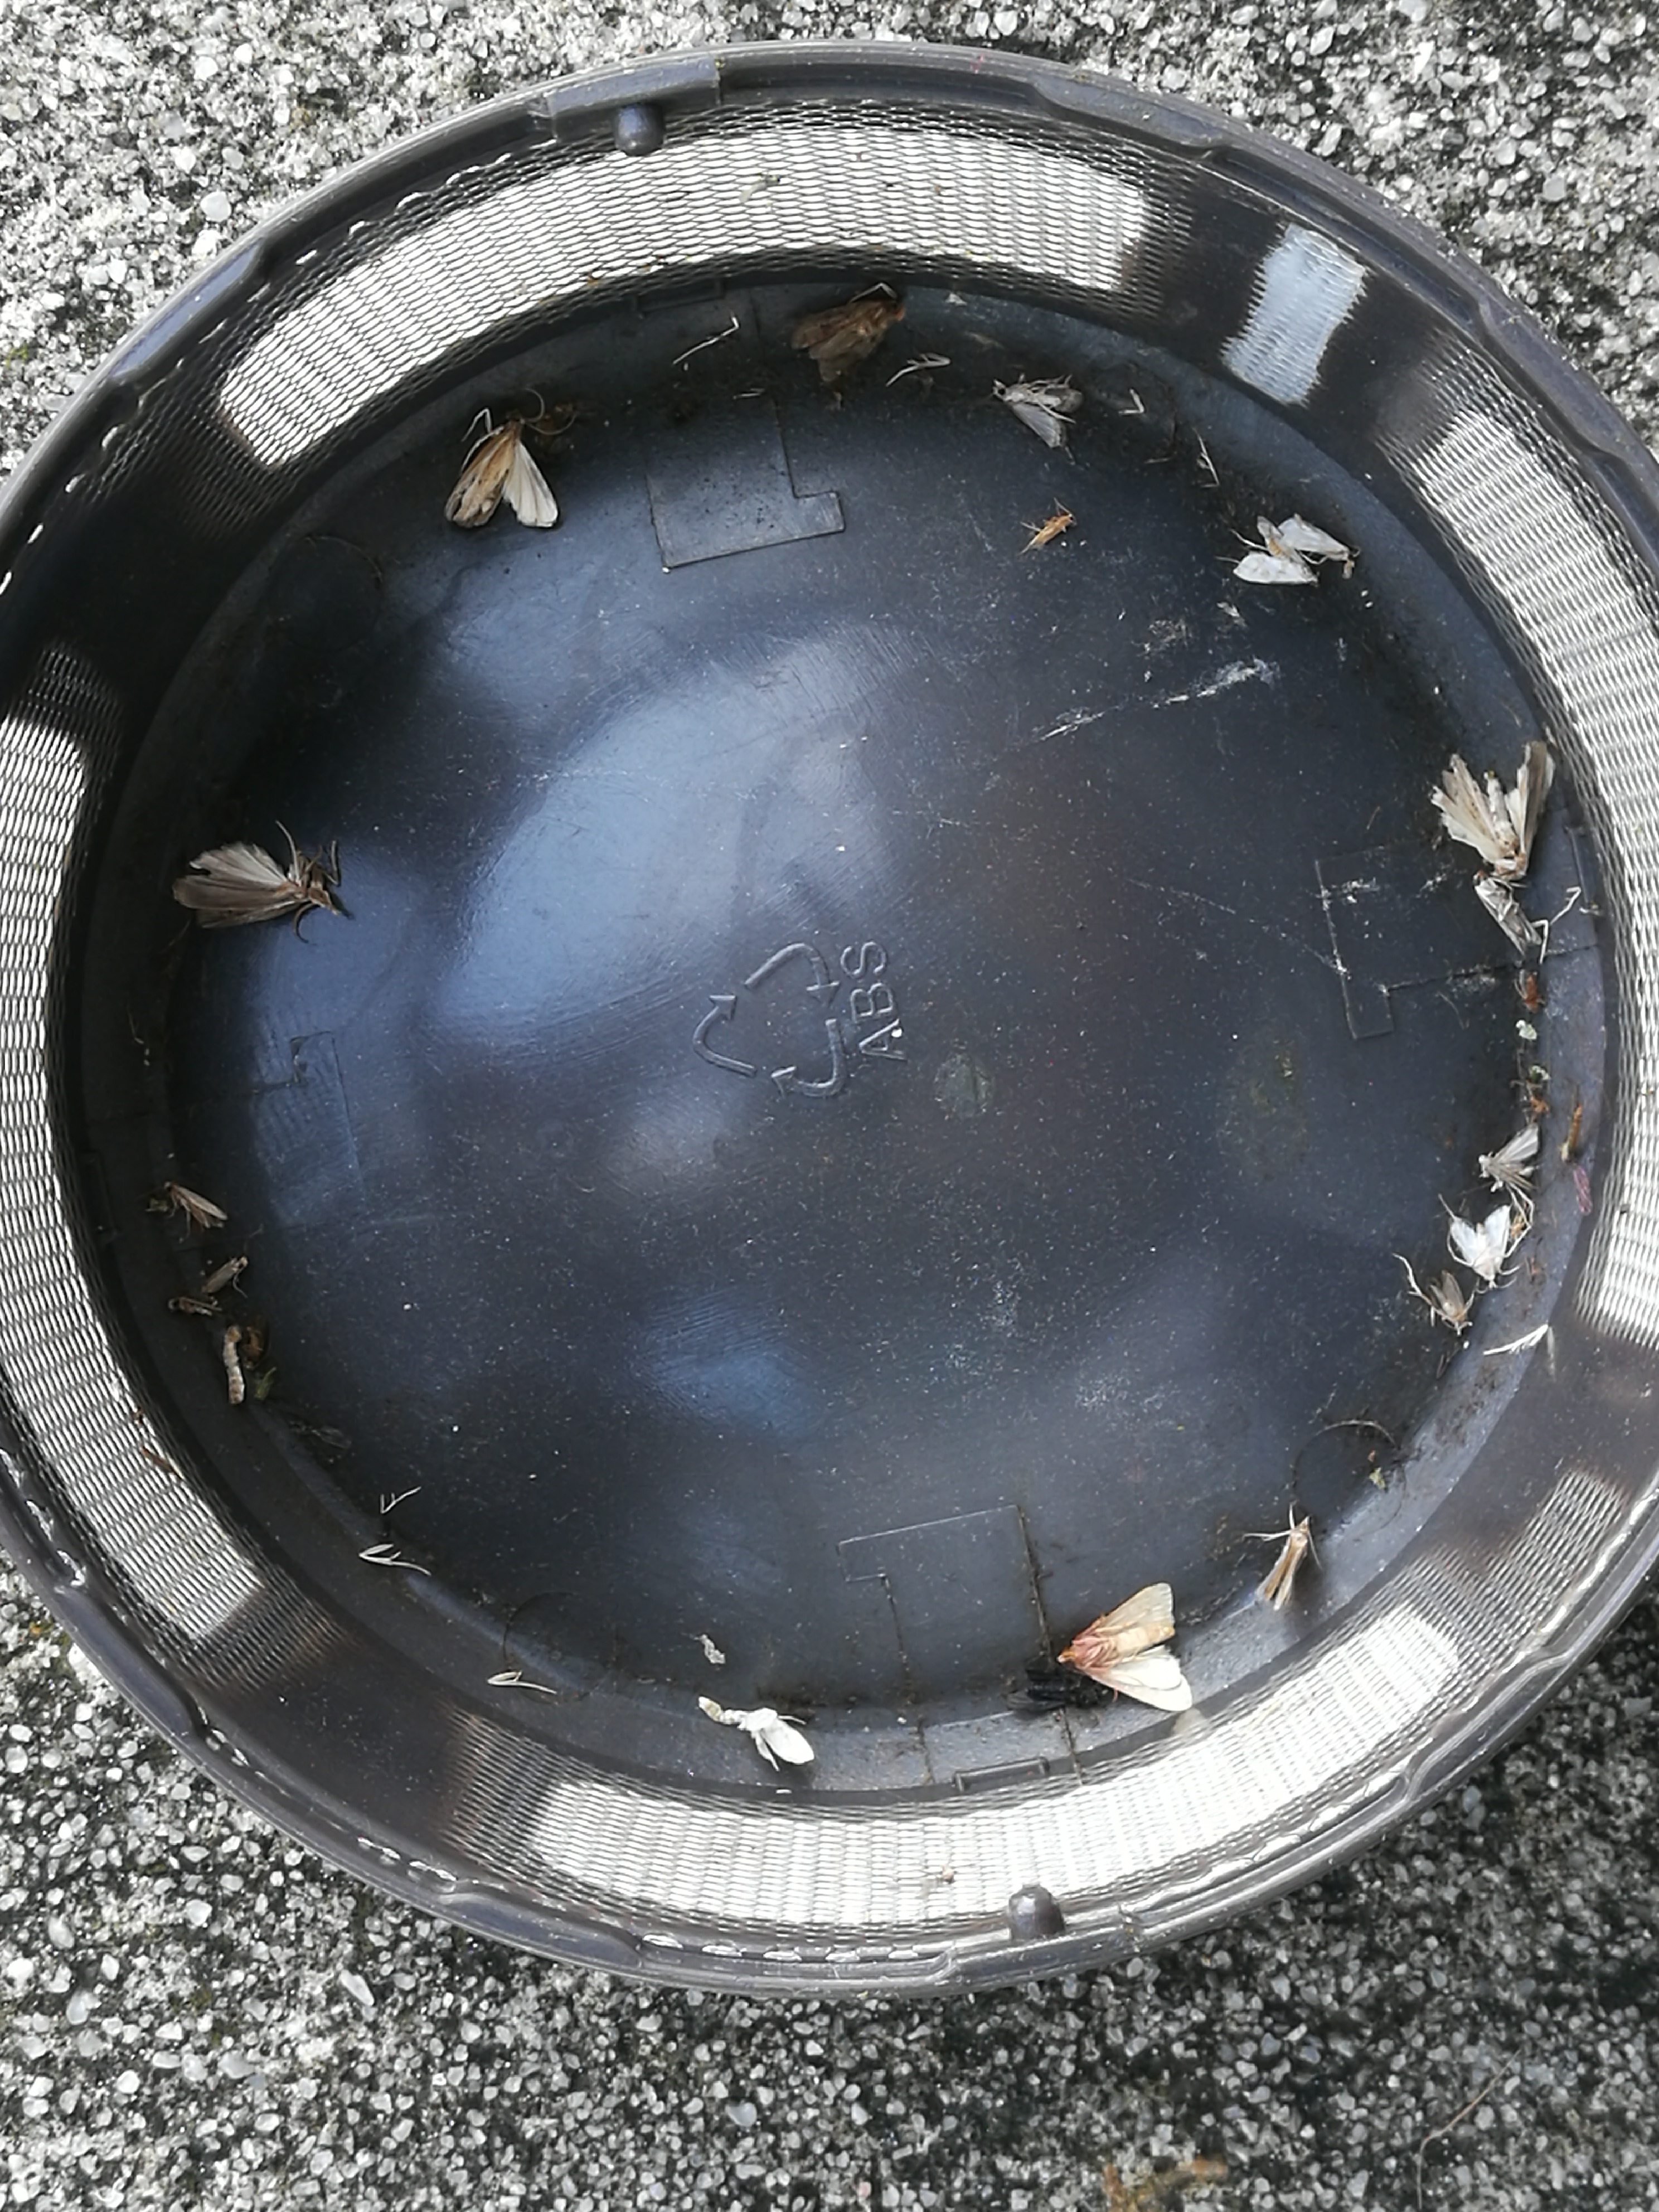mosquito: (1474, 873, 1541, 953), (1255, 1515, 1309, 1609), (162, 1181, 228, 1228), (1429, 1271, 1466, 1329), (1026, 514, 1073, 550), (206, 1256, 246, 1294), (167, 1298, 220, 1317)
moth: (1058, 1581, 1192, 1710), (1432, 740, 1556, 878), (173, 841, 340, 928), (444, 411, 556, 528), (793, 300, 904, 381), (699, 1696, 816, 1773), (993, 378, 1084, 448), (1234, 516, 1317, 583), (1452, 1205, 1511, 1282), (1480, 1127, 1539, 1190), (1276, 519, 1349, 561)
